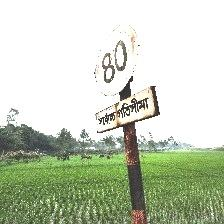Speed-limit: (93, 24, 157, 134)
